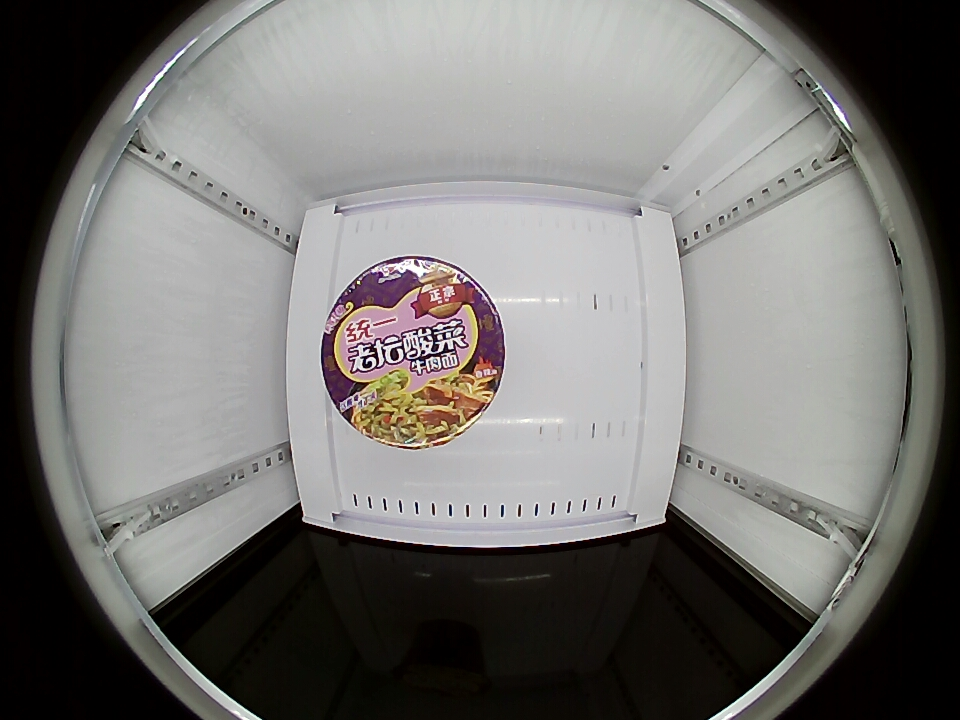laotansuancai: (321, 257, 506, 450)
